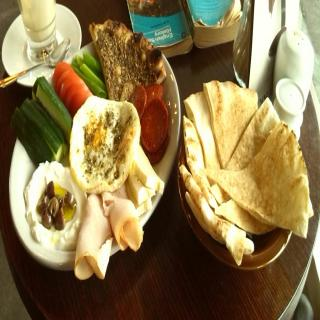Cucumber: (16, 76, 65, 161)
